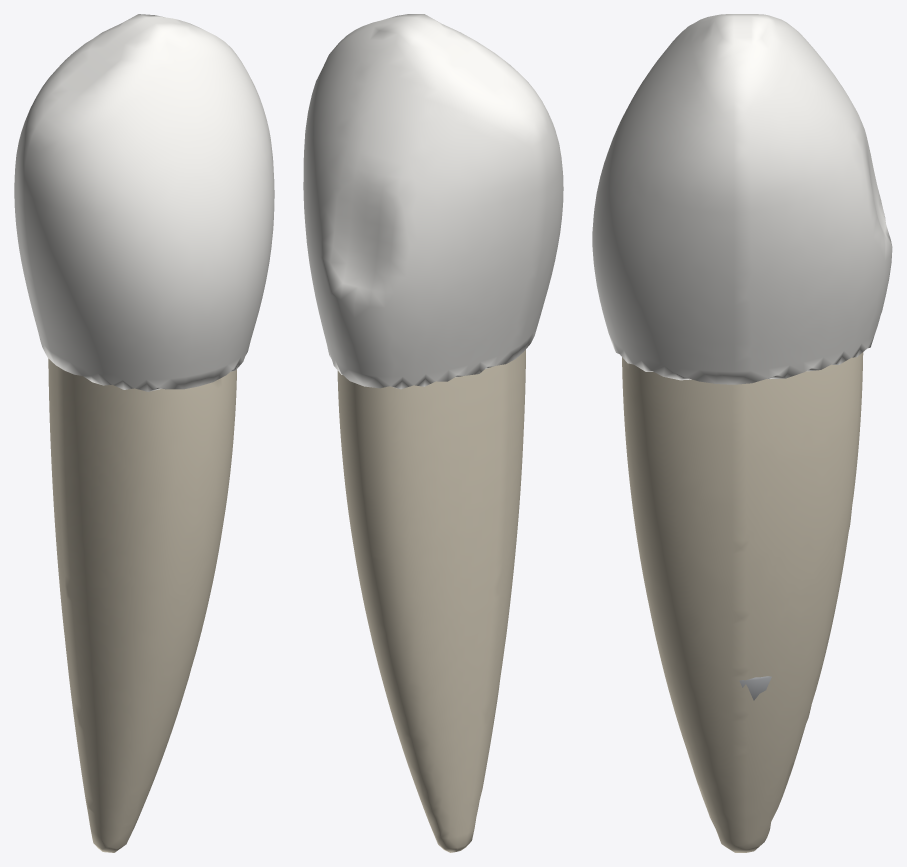
3 views of the same model, side by side, from view 1: azimuth 30°, elevation 25°; view 2: azimuth 150°, elevation 25°; view 3: azimuth 270°, elevation 25° (orthographic). The views are drawn at different scales.
Parts seen in each view (by area): view 1: crown, root; view 2: crown, root; view 3: crown, root.
Part boxes in pixels (left/top/right/bottom): crown: left=14, top=14, right=274, bottom=391; root: left=48, top=358, right=236, bottom=852; crown: left=303, top=14, right=563, bottom=389; root: left=337, top=350, right=525, bottom=852; crown: left=592, top=14, right=892, bottom=384; root: left=622, top=352, right=863, bottom=852.
Bounding box in the file's own units: 8.19 × 27.35 × 8.69.
